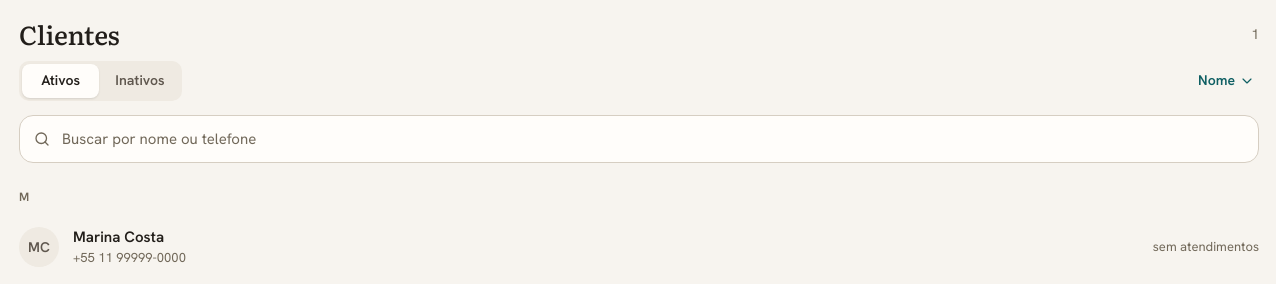
Test: Goal148 — os outros estados da lista não mudam › busca (CL3): sem resultado, a mensagem aparece
The image size is (1276, 284).
Check: the text "Marina Costa" is shown, box [73,227,164,247]
Type "zzz" into the search field at (639, 139), box [19,115,1259,163]
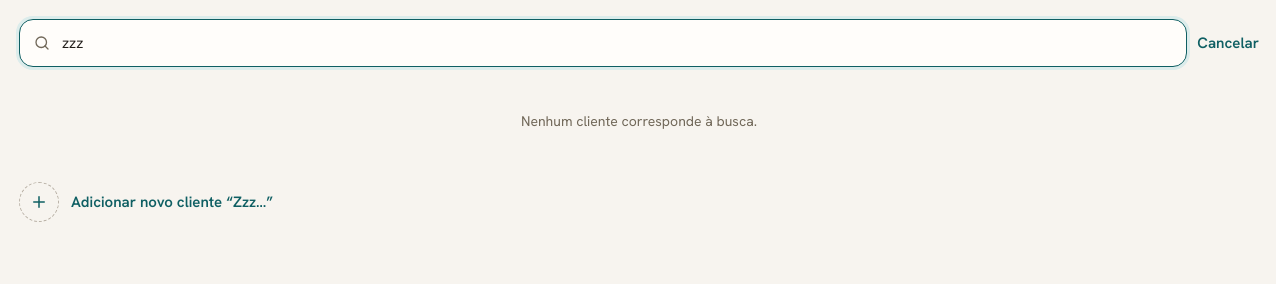
Check: the text "Nenhum cliente corresponde à busca." is shown, box [521,112,757,130]
Check: the text "Carregando clientes" is gone
